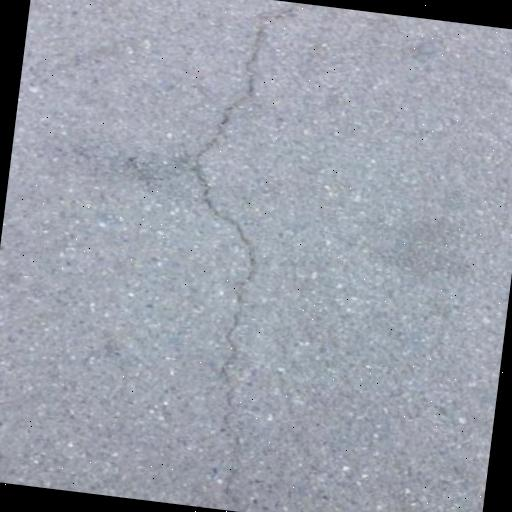spalling: (183, 0, 299, 499)
